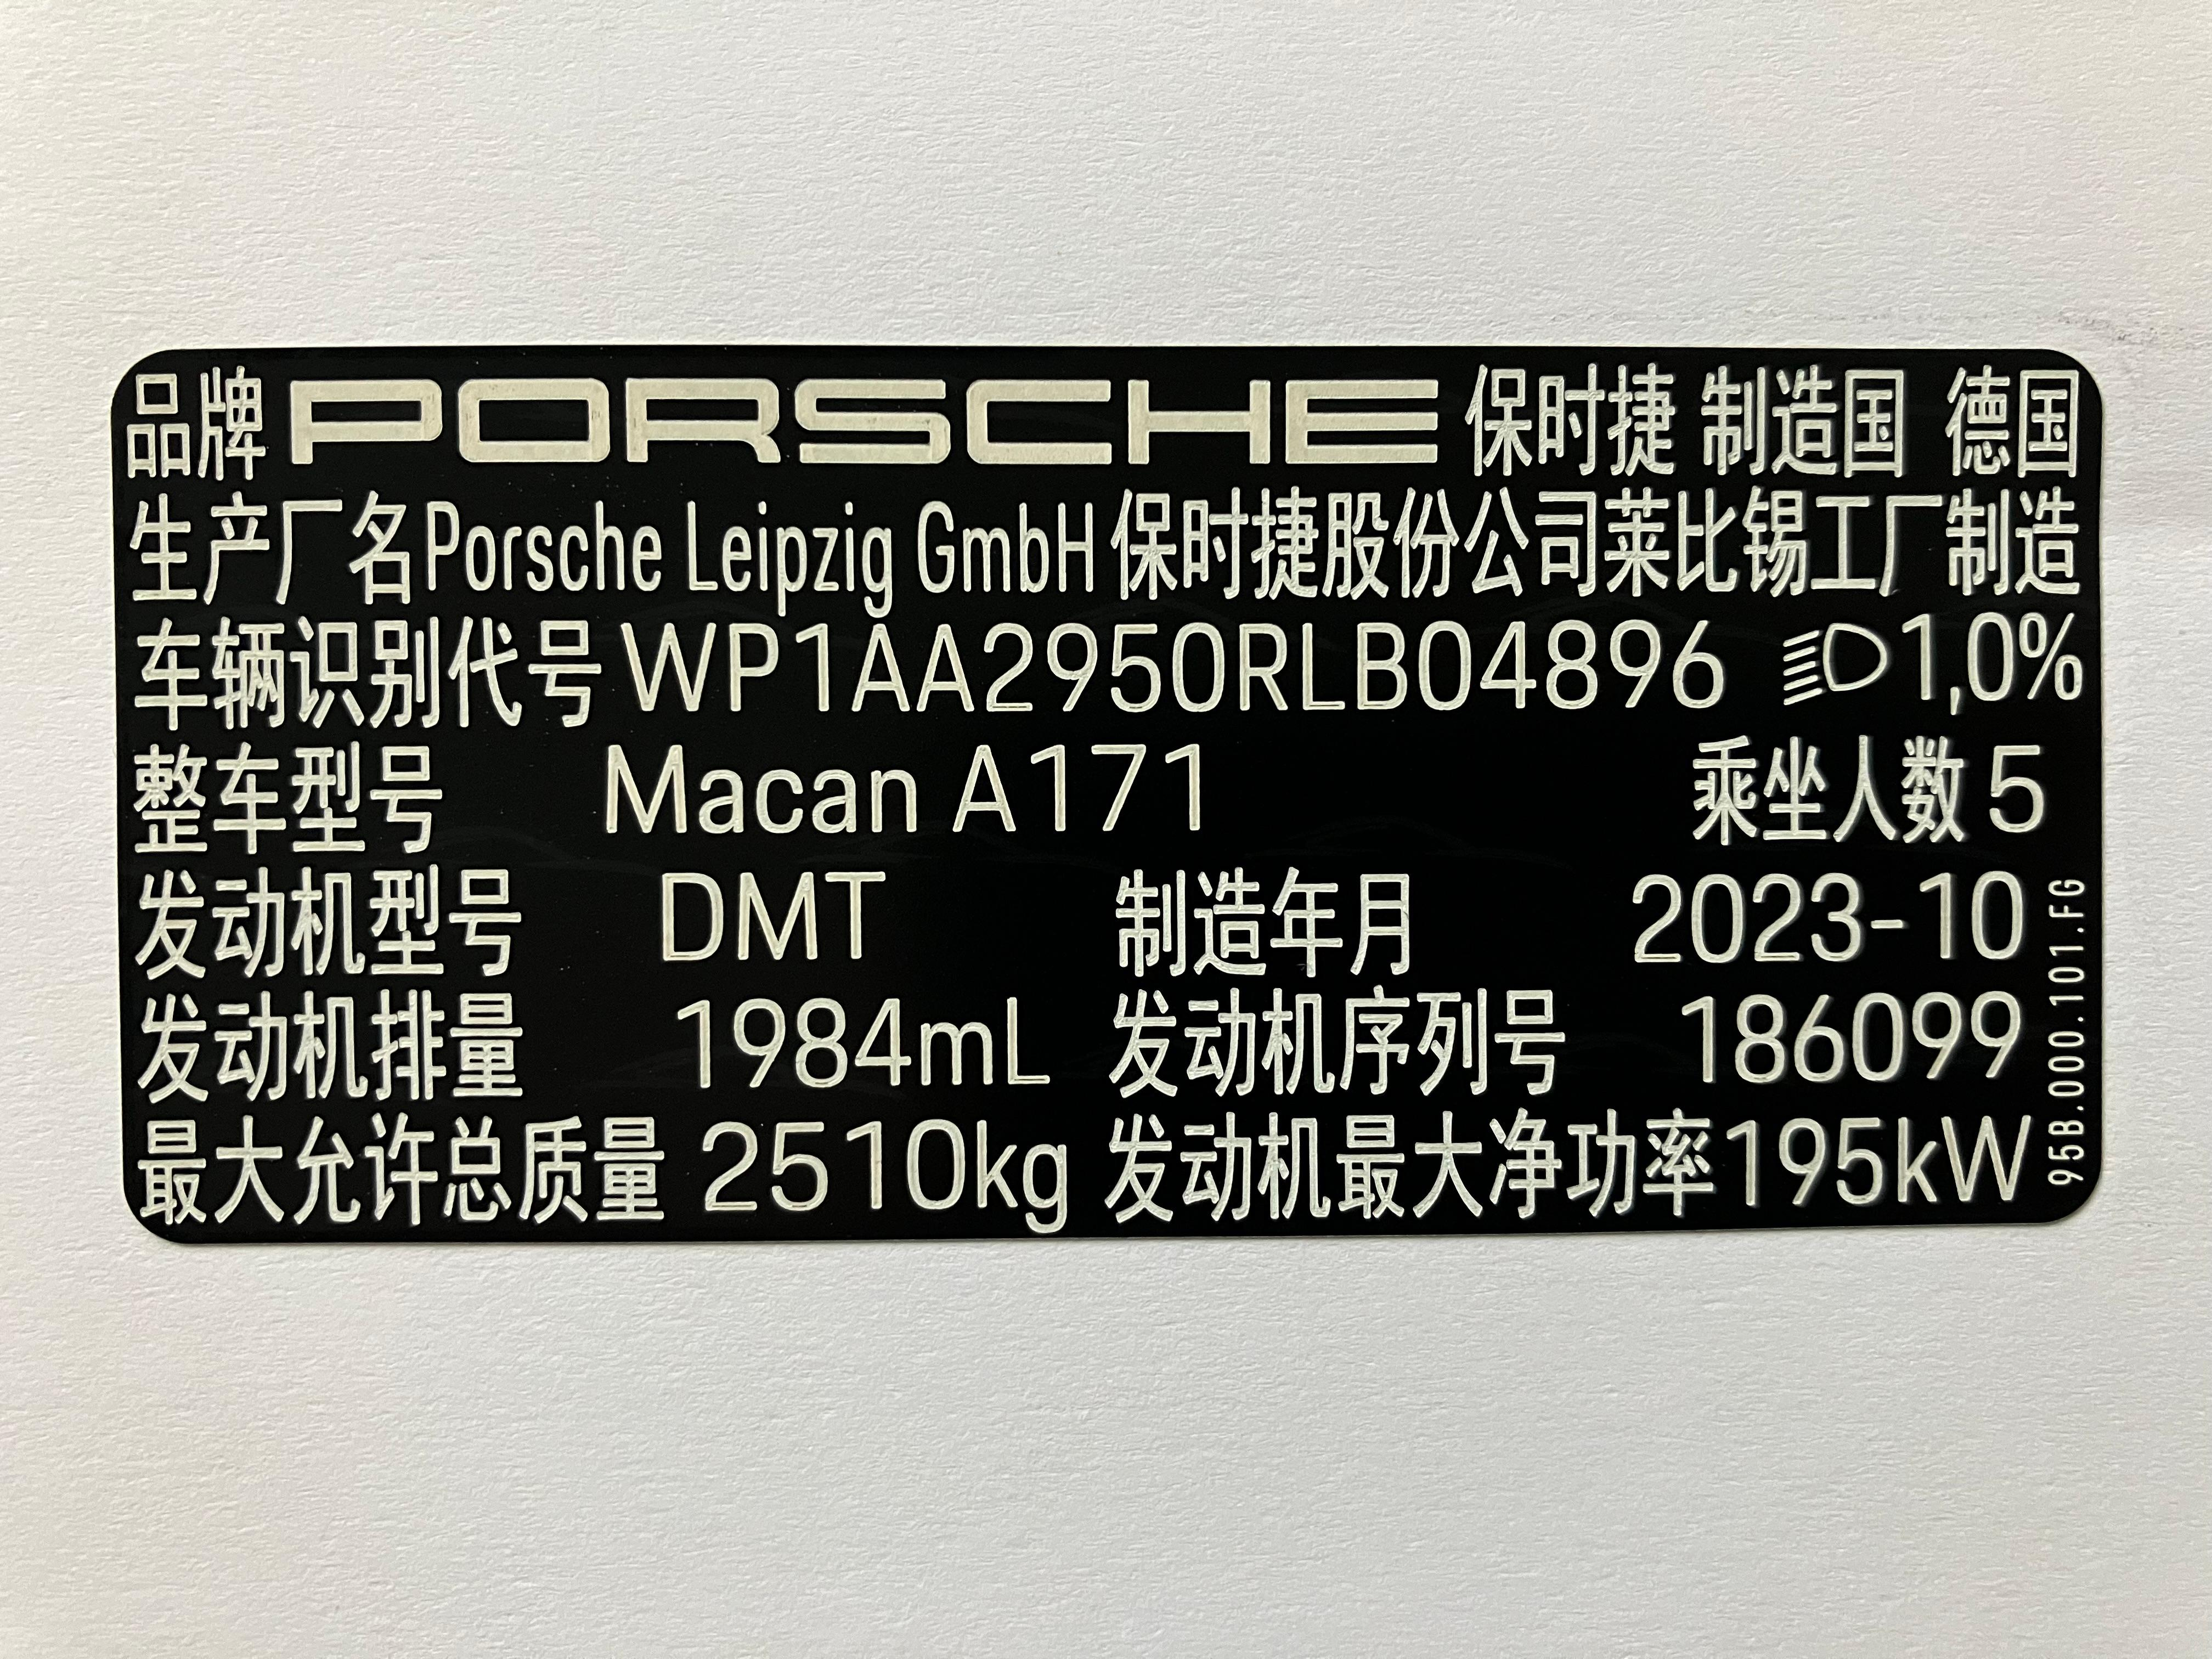Typlabel-China: (110, 347, 2102, 1243)
